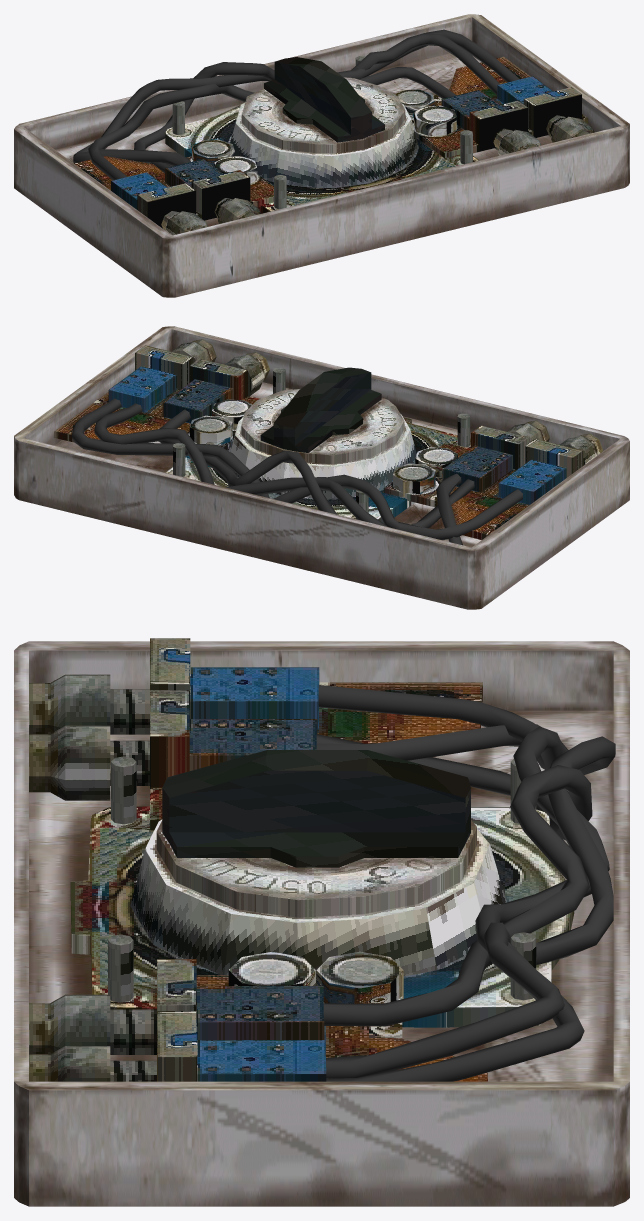
Rendered from mp_inverter interaction1.glb.
3 views of the same model, one above another, from view 1: azimuth 30°, elevation 25°; view 2: azimuth 150°, elevation 25°; view 3: azimuth 270°, elevation 25° (orthographic). The views are drawn at different scales.
Parts seen in each view (by area): view 1: inverter base, inverter dial; view 2: inverter base, inverter dial; view 3: inverter base, inverter dial.
Boxes of the visible parts, x1,y1,x2,y2 form: inverter base: (14,14,629,297); inverter dial: (242,57,405,153); inverter base: (14,326,629,609); inverter dial: (241,367,404,464); inverter base: (14,638,629,1206); inverter dial: (156,750,476,917).
Bounding box in the file's own units: 2.02 × 0.4674 × 1.17.
Materials: 3 (2 with a texture image).
